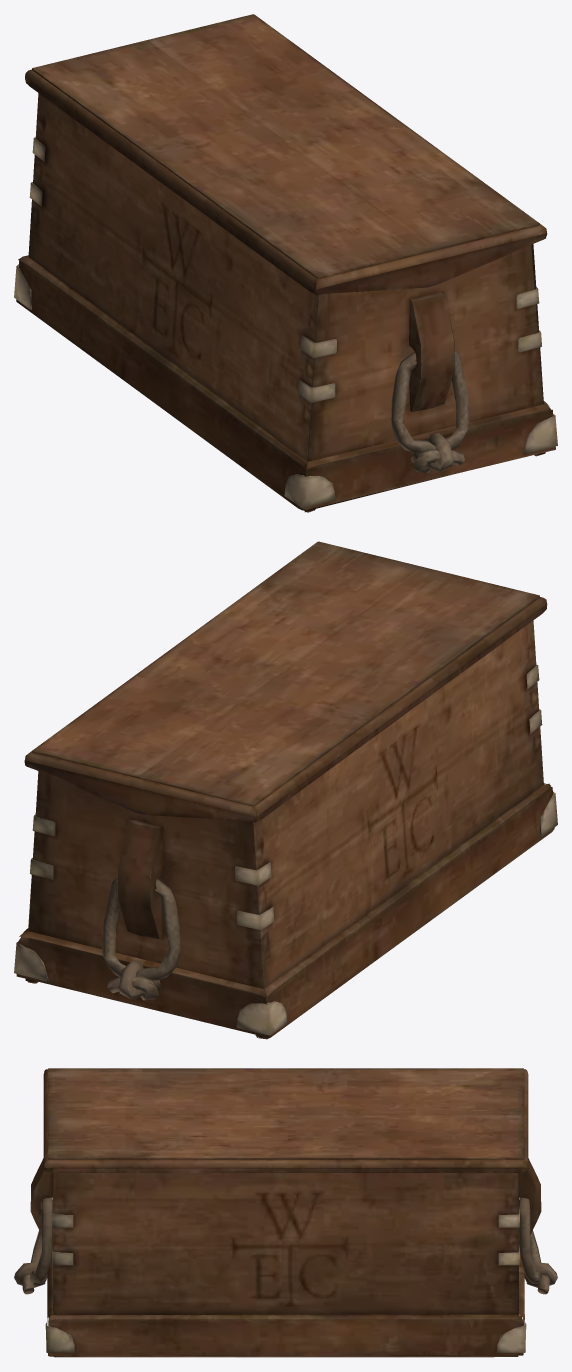
The model's file is wooden_crate_02.glb.
The picture shows the model from 3 angles, top to bottom: view 1: azimuth 30°, elevation 25°; view 2: azimuth 150°, elevation 25°; view 3: azimuth 270°, elevation 25°; orthographic projection. The views are drawn at different scales.
Parts seen in each view (by area): view 1: wooden_crate_02_crate, wooden_crate_02_lid; view 2: wooden_crate_02_crate, wooden_crate_02_lid; view 3: wooden_crate_02_crate, wooden_crate_02_lid.
Part boxes in pixels (left/top/right/bottom): wooden_crate_02_crate: left=14, top=93, right=557, bottom=512; wooden_crate_02_lid: left=25, top=14, right=547, bottom=295; wooden_crate_02_crate: left=14, top=620, right=557, bottom=1039; wooden_crate_02_lid: left=24, top=541, right=547, bottom=822; wooden_crate_02_crate: left=14, top=1158, right=557, bottom=1357; wooden_crate_02_lid: left=43, top=1068, right=528, bottom=1172.
Bounding box in the file's own units: 0.5291 × 0.4642 × 1.17.
Materials: 1 (1 with a texture image).
